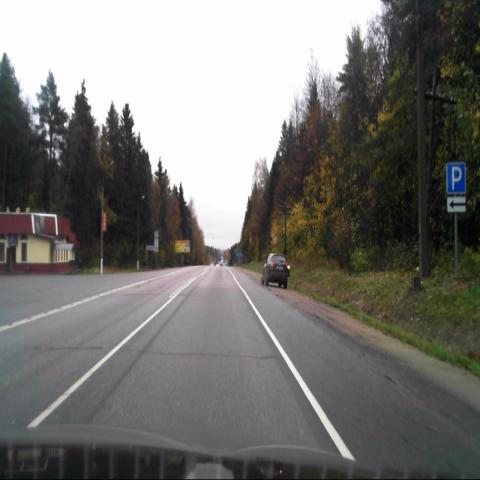8_3_2: (447, 197, 466, 213)
